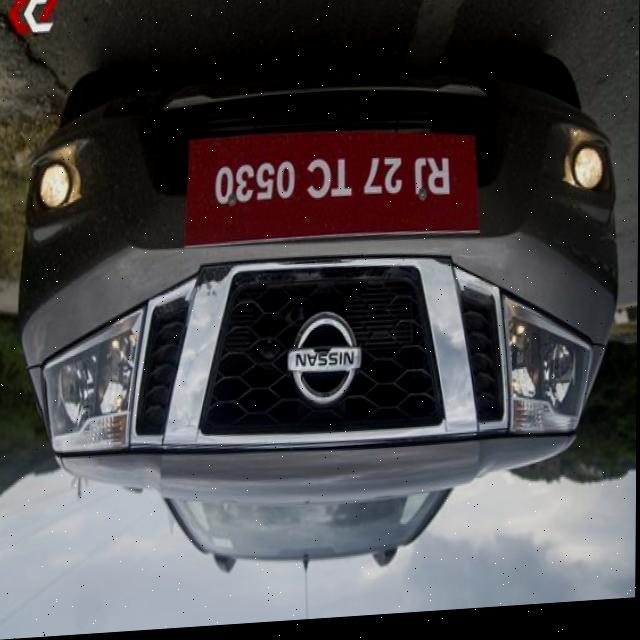plate: (183, 118, 486, 265)
